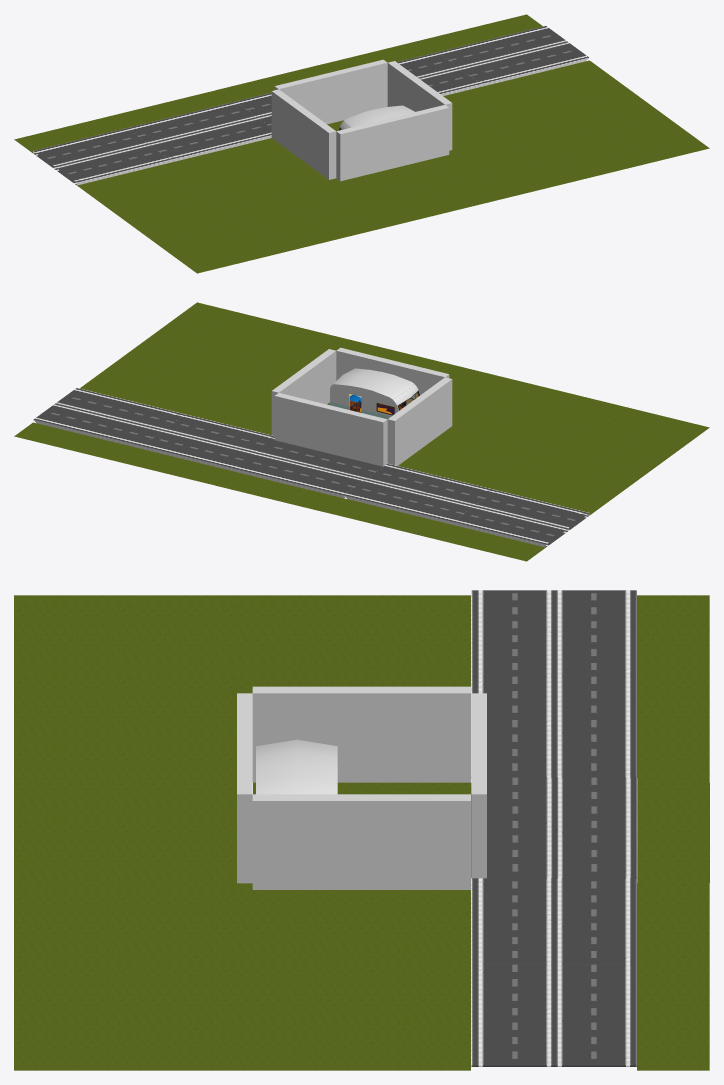
Rendered from House01_Old_Caravan.fbx.
The picture shows the model from 3 angles, top to bottom: view 1: azimuth 30°, elevation 25°; view 2: azimuth 150°, elevation 25°; view 3: azimuth 270°, elevation 25°; orthographic projection. The views are drawn at different scales.
Parts seen in each view (by area): view 1: GarageOutdoorEnv, Border04, Border02, Border01, Border03, Top; view 2: GarageOutdoorEnv, Border02, Border01, Border03, Border04, Top, RightSide; view 3: GarageOutdoorEnv, Border03, Border01, Top, Border04, Border02, GarageOutdoor.
Part boxes in pixels (x1,y1,x2,y2): GarageOutdoorEnv: (14,14,709,273); Border04: (336,105,449,181); Border02: (274,59,387,124); Border01: (271,89,336,179); Border03: (387,61,452,150); Top: (344,105,414,127); GarageOutdoorEnv: (14,302,709,561); Border02: (274,393,387,466); Border01: (387,377,452,465); Border03: (271,349,336,435); Border04: (336,347,449,398); Top: (332,368,413,399); RightSide: (330,384,398,419); GarageOutdoorEnv: (14,590,709,1070); Border03: (252,794,470,889); Border01: (252,686,470,782); Top: (256,739,337,794); Border04: (237,693,252,883); Border02: (471,693,486,878); GarageOutdoor: (253,782,471,877).
Size of the model in its own units: 5.54 by 0.485 by 3.43.
12 materials, 2 textured.
